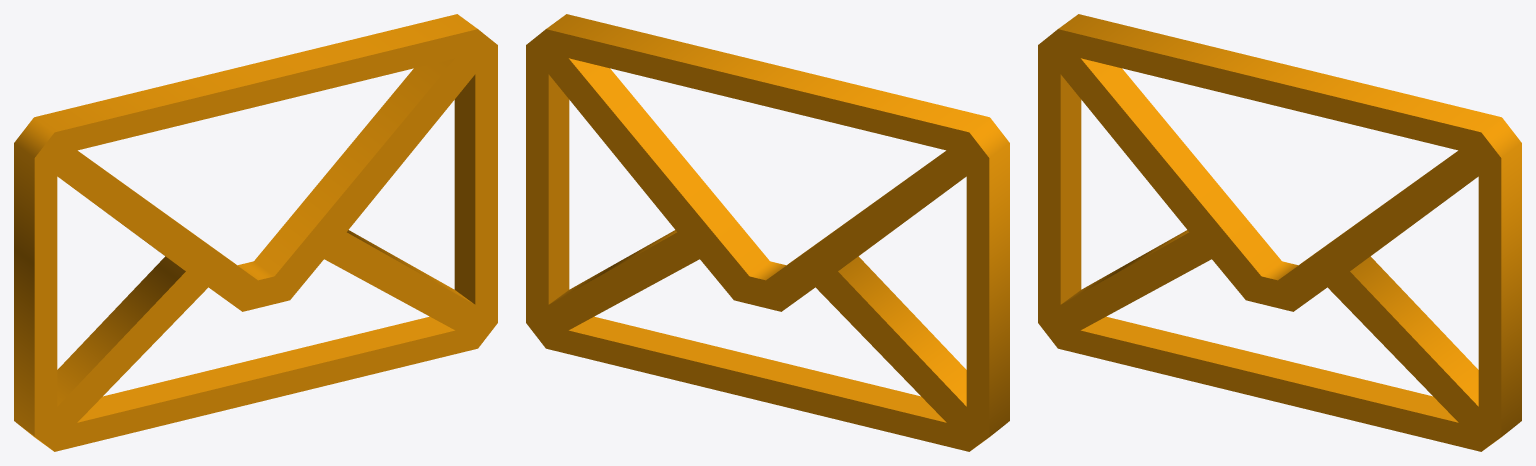
File: Post_TypeA.FBX
The picture shows the model from 3 angles, left to right: view 1: azimuth 30°, elevation 25°; view 2: azimuth 150°, elevation 25°; view 3: azimuth 330°, elevation 25°; orthographic projection.
Parts seen in each view (by area): view 1: Post_TypeA; view 2: Post_TypeA; view 3: Post_TypeA.
Part boxes in pixels (x1,y1,x2,y2): Post_TypeA: [14, 14, 497, 451]; Post_TypeA: [526, 14, 1009, 451]; Post_TypeA: [1038, 14, 1521, 451].
Size of the model in its own units: 21.51 by 14.18 by 1.66.
